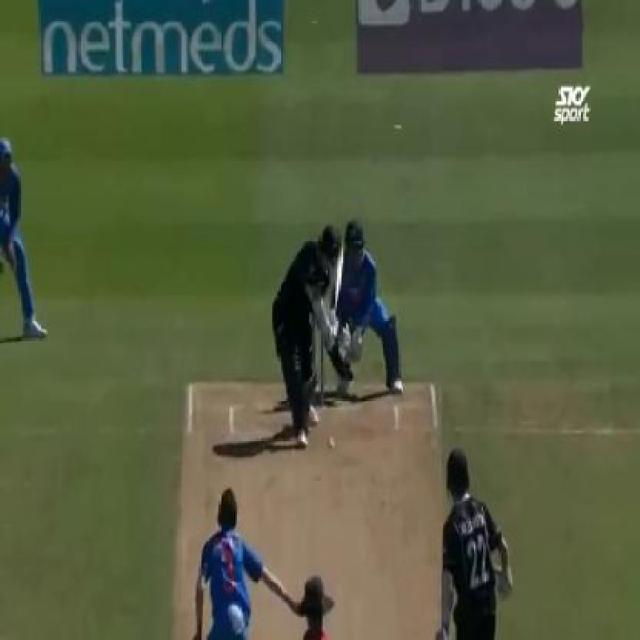Cricket ball: (327, 436, 337, 450)
